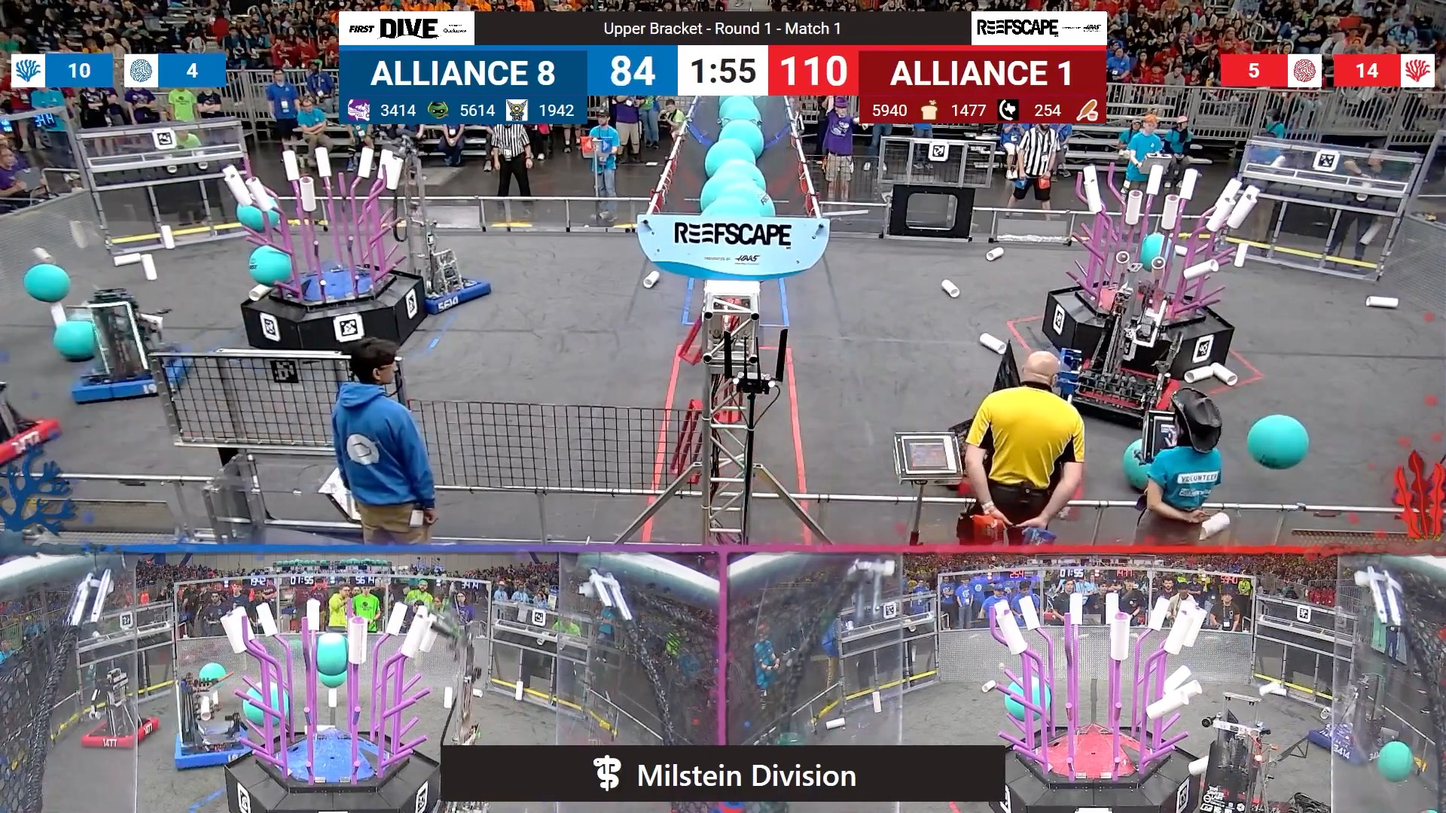bumpers: (1054, 356, 1182, 432), (68, 349, 199, 402), (1301, 718, 1408, 776), (158, 718, 258, 777), (398, 264, 502, 315), (0, 406, 72, 469), (82, 709, 164, 759), (1177, 786, 1315, 813)
